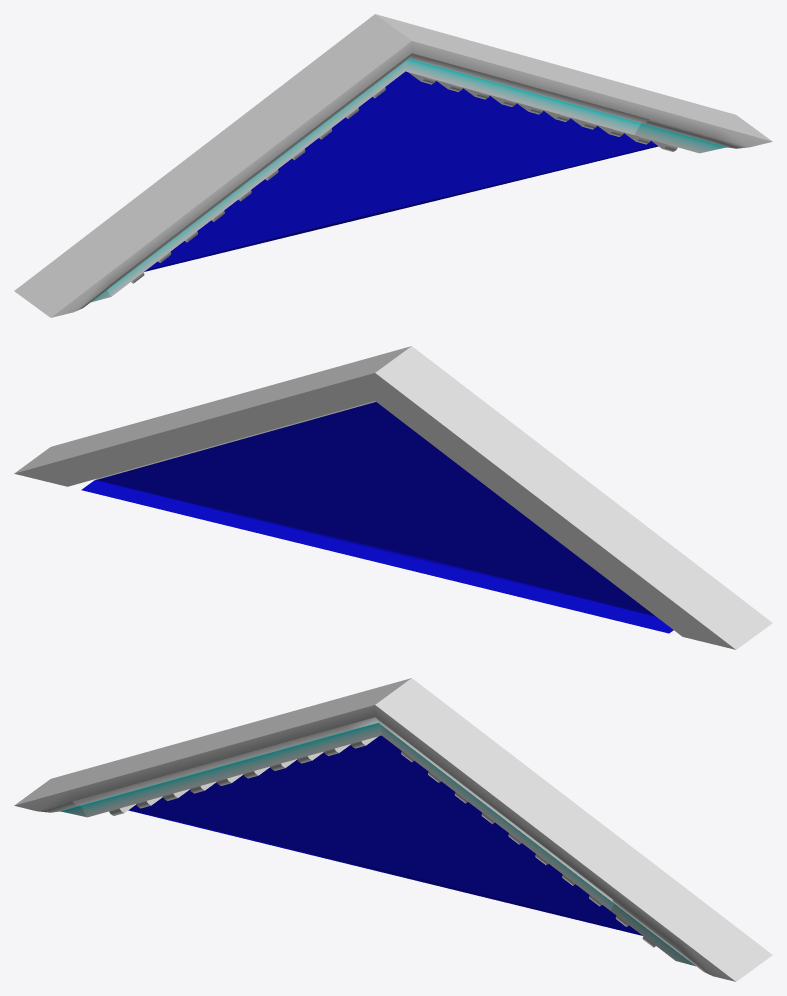
File: SM_RoofEnd10m.fbx
3 renders of one model, top to bottom at view 1: azimuth 30°, elevation 25°; view 2: azimuth 150°, elevation 25°; view 3: azimuth 330°, elevation 25°, orthographic.
Parts seen in each view (by area): view 1: SM_RoofEnd10m; view 2: SM_RoofEnd10m; view 3: SM_RoofEnd10m.
Part boxes in pixels (<box>): SM_RoofEnd10m: <box>14,14,772,317</box>; SM_RoofEnd10m: <box>14,346,772,649</box>; SM_RoofEnd10m: <box>14,678,772,981</box>.
Size of the model in its own units: 1204 by 301 by 106.
